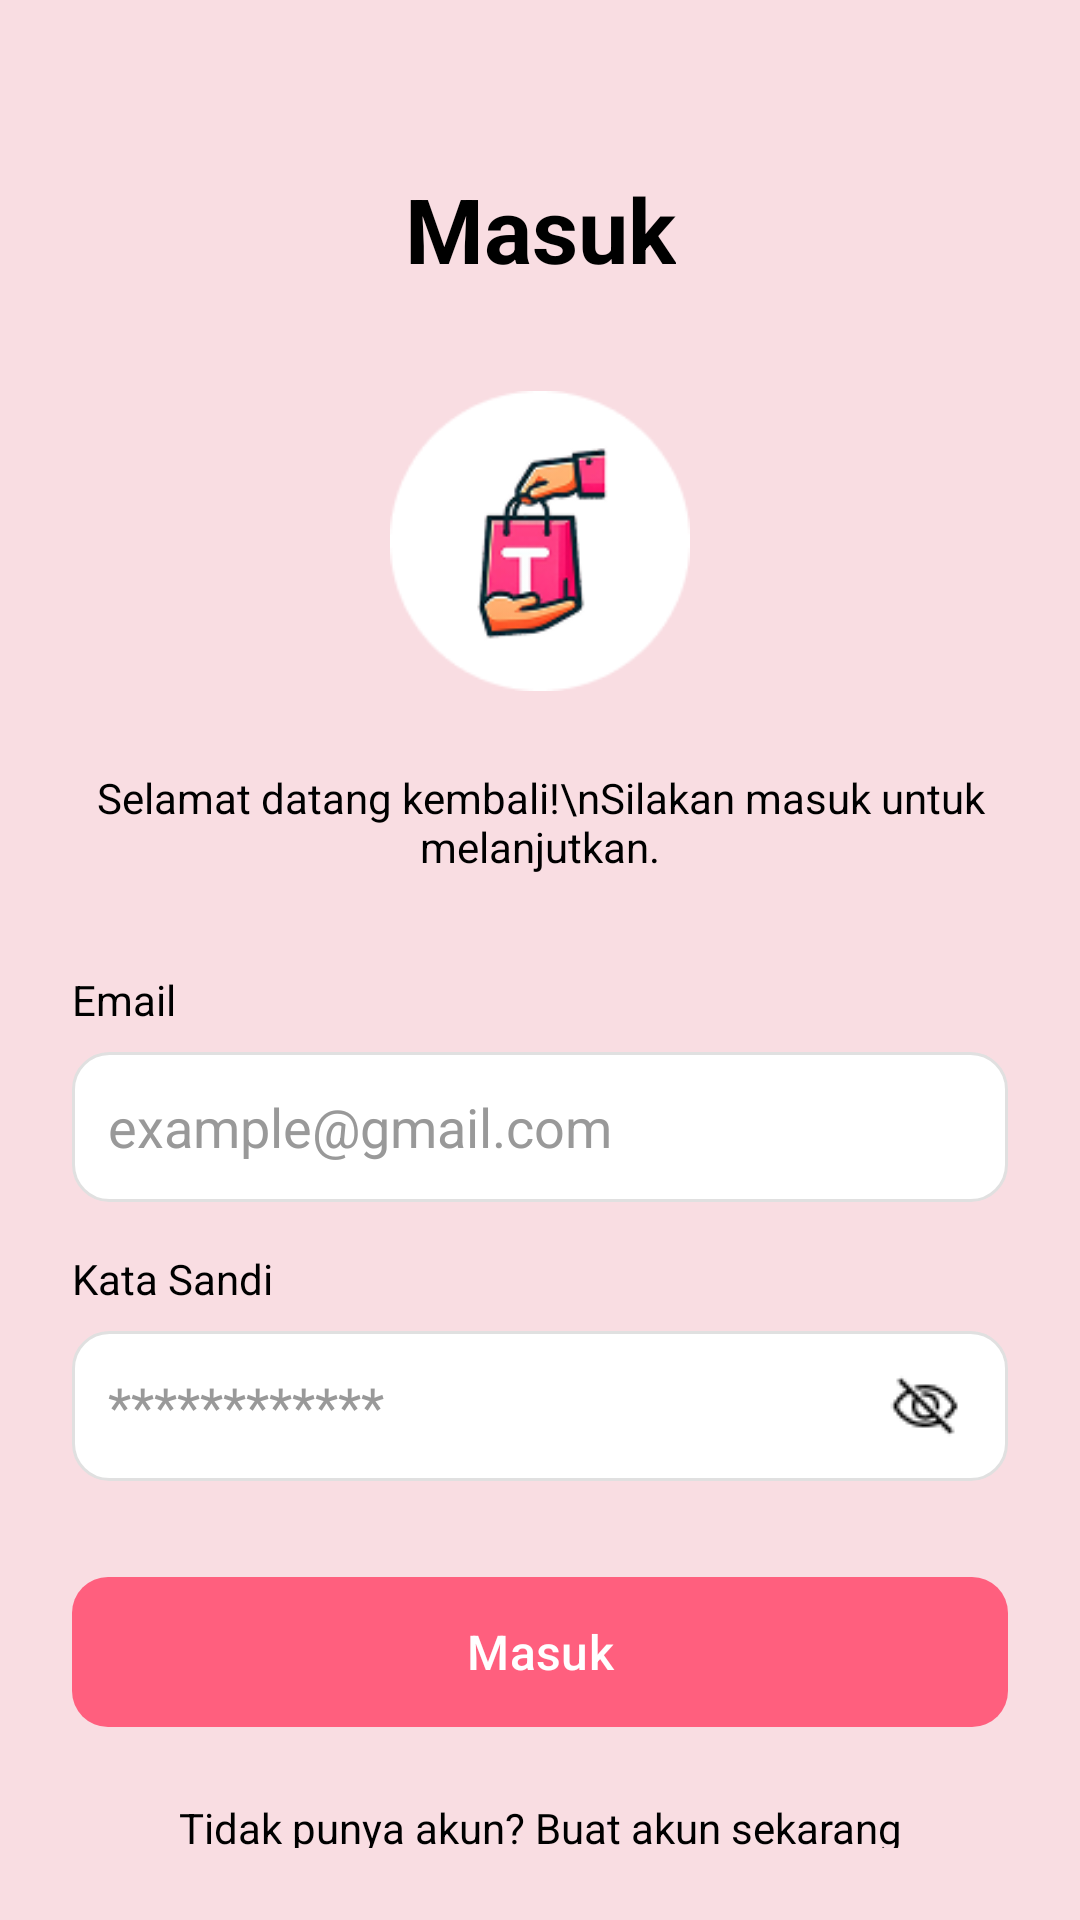

Point at icon controls on the screen. Image size 1080 x 1920, points as point (x, y).
eye off: point (925, 1406)
